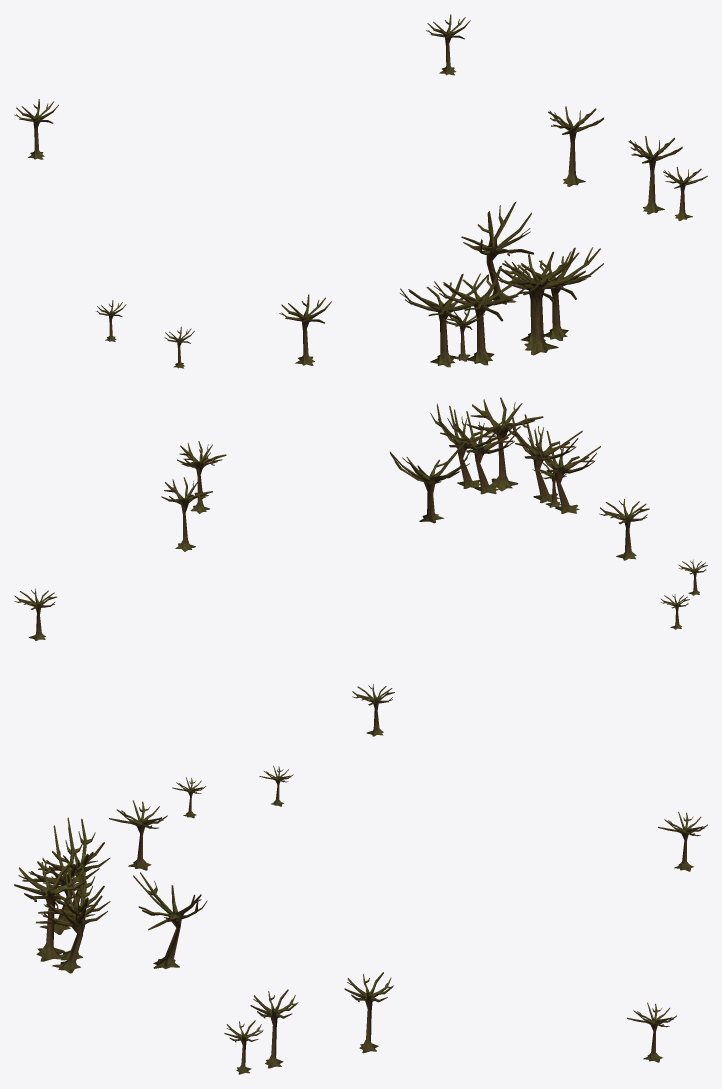
The model's file is TreesBlock1.FBX.
3 views of the same model, one above another, from view 1: azimuth 30°, elevation 25°; view 2: azimuth 150°, elevation 25°; view 3: azimuth 270°, elevation 25° (orthographic). The views are drawn at different scales.
Parts seen in each view (by area): view 1: Tree:Tree013; view 2: Tree:Tree013; view 3: Tree:Tree013.
Boxes of the visible parts, x1,y1,x2,y2 form: Tree:Tree013: (14, 14, 707, 368); Tree:Tree013: (14, 397, 707, 736); Tree:Tree013: (14, 765, 707, 1074).
Size of the model in its own units: 10010 by 1415 by 10369.
